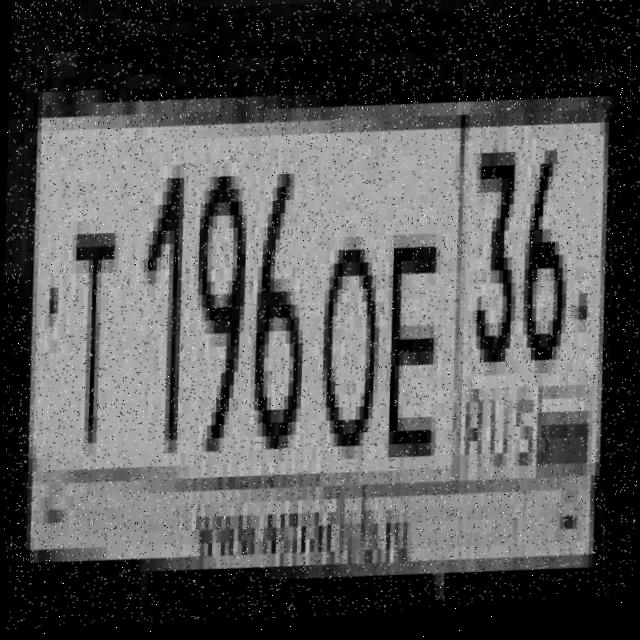LicensePlate: (7, 19, 633, 620)
